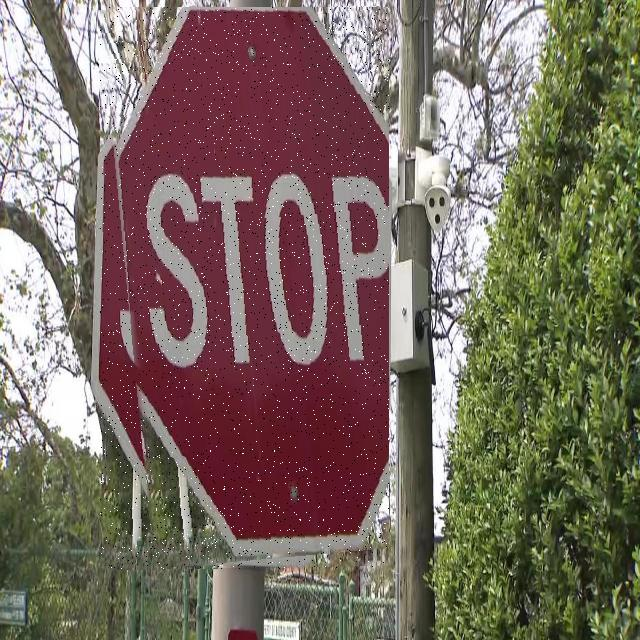stop: (100, 7, 389, 569)
